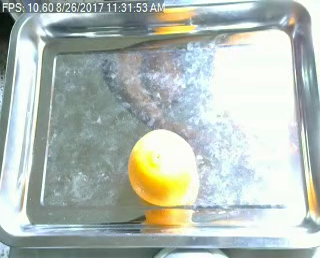Orange: (127, 127, 197, 206)
